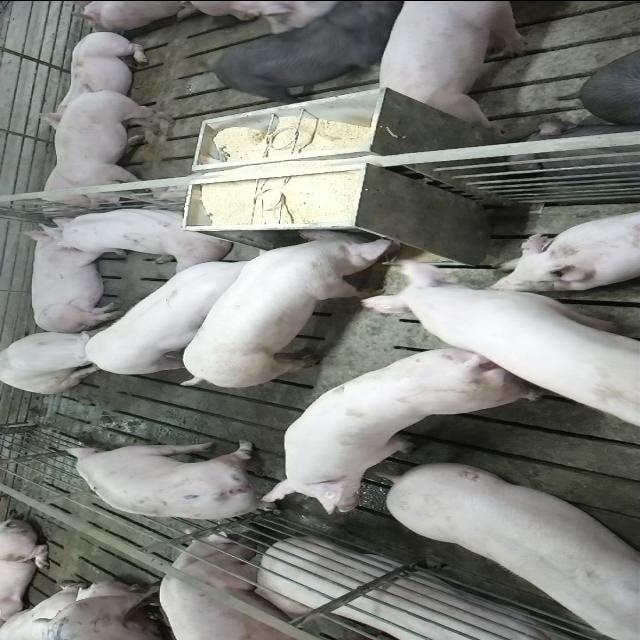Feeding: (359, 255, 640, 454), (174, 221, 408, 385)
Lateral_lying: (212, 536, 590, 640), (20, 222, 126, 334)
Sitting: (0, 325, 116, 393)
Standing: (264, 340, 548, 512), (384, 464, 640, 640), (80, 250, 278, 378), (373, 1, 540, 130), (60, 436, 282, 520), (49, 86, 182, 212), (161, 533, 307, 640)
Sternal_lying: (489, 206, 640, 288), (44, 202, 234, 266), (31, 30, 153, 124)
